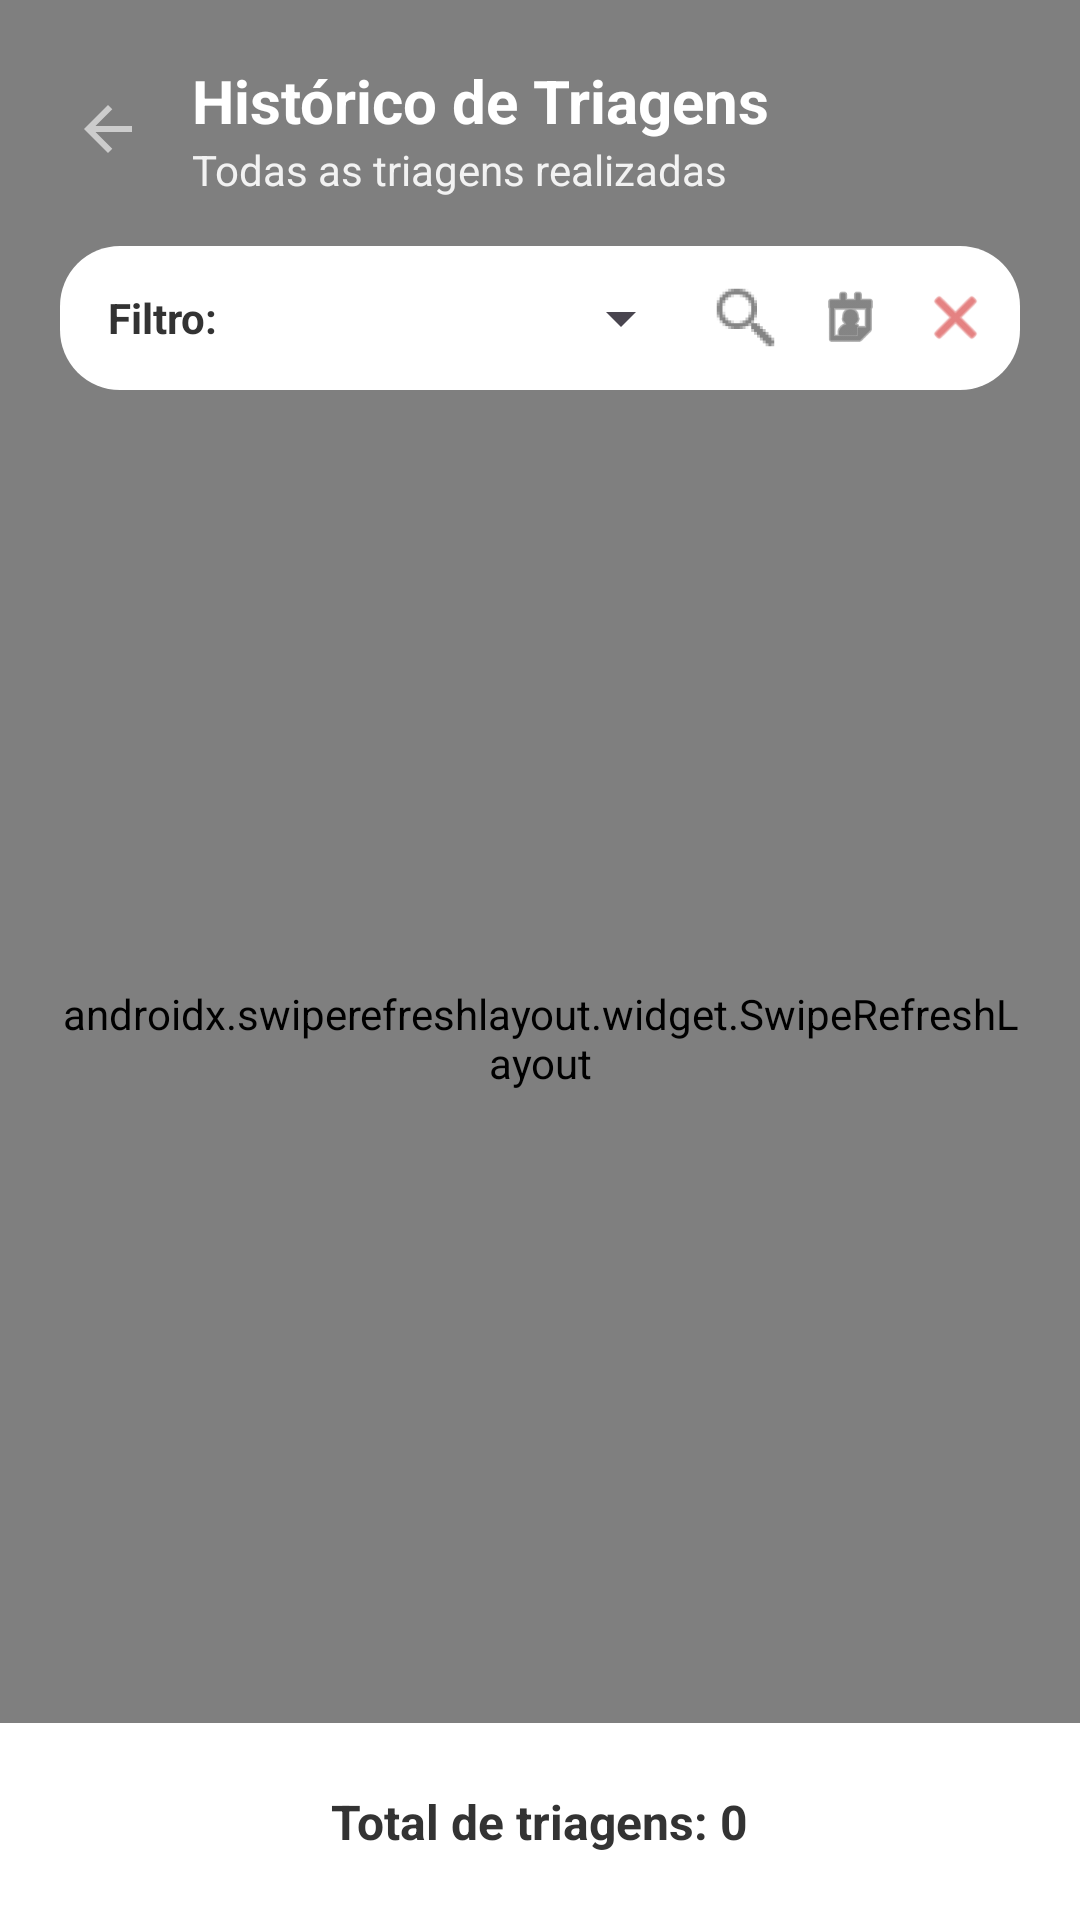

Locate icon controls on the screen. Image size 1080 x 1920, boxes as box=[x1, y1, x2, y2].
calendar: box=[828, 292, 873, 342]
close clear cancel: box=[934, 296, 977, 339]
search: box=[716, 288, 775, 347]
voltaratras: box=[84, 105, 132, 153]
